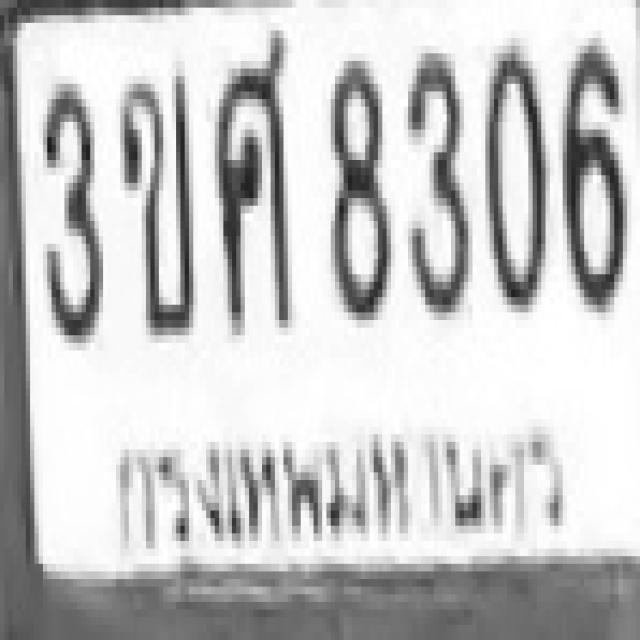0: (481, 38, 546, 305)
11KhorKhai: (116, 69, 193, 328)
3: (404, 46, 468, 312), (38, 76, 98, 335)
47SorSala: (210, 22, 288, 328)
6: (558, 38, 623, 305)
8: (326, 54, 386, 312)
Bangkok: (103, 404, 572, 553)
